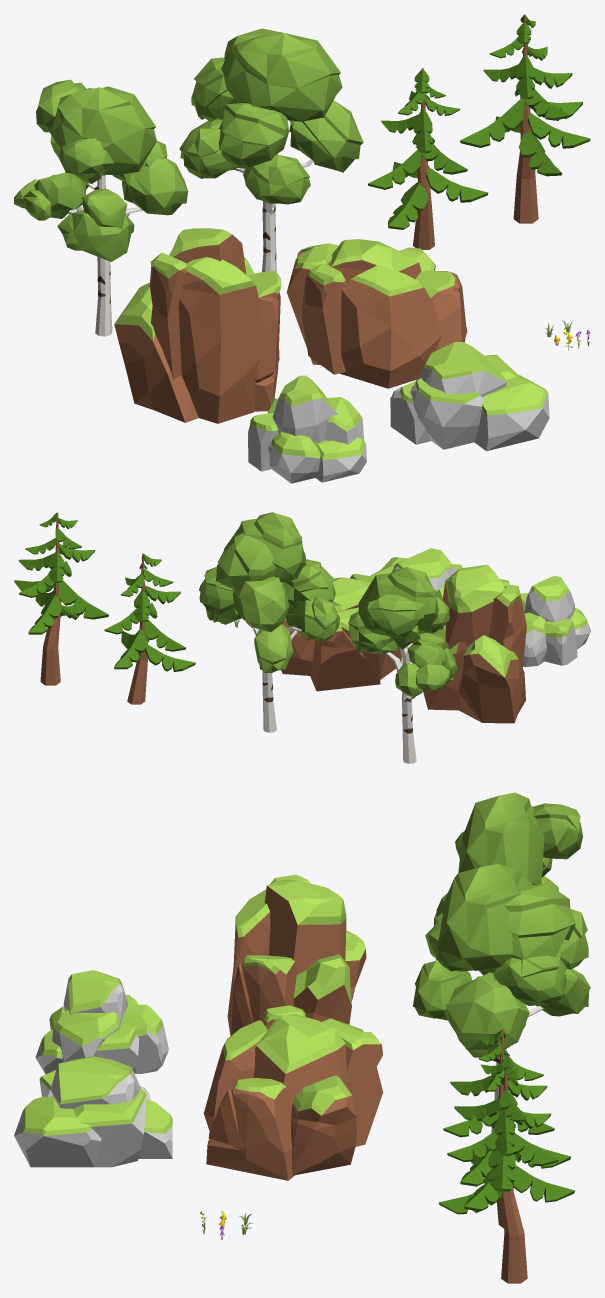
File: dm11.grassland.model.01.glb
3 renders of one model, top to bottom at view 1: azimuth 30°, elevation 25°; view 2: azimuth 150°, elevation 25°; view 3: azimuth 270°, elevation 25°, orthographic. The views are drawn at different scales.
Visible parts, largest first — view 1: PP_Rock_Pile_Forest_Moss_05.001_PP_Standard_Material_0, PP_Birch_Tree_06.001_PP_Standard_Material_0, PP_Rock_Pile_Forest_Moss_10.001_PP_Standard_Material_0, PP_Birch_Tree_05.001_PP_Standard_Material_0, PP_Rock_Moss_Grown_11.001_PP_Standard_Material_0, PP_Rock_Moss_Grown_09.001_PP_Standard_Material_0, PP_Tree_02.001_PP_Standard_Material_0, PP_Tree_10.001_PP_Standard_Material_0; view 2: PP_Birch_Tree_06.001_PP_Standard_Material_0, PP_Rock_Pile_Forest_Moss_05.001_PP_Standard_Material_0, PP_Birch_Tree_05.001_PP_Standard_Material_0, PP_Rock_Pile_Forest_Moss_10.001_PP_Standard_Material_0, PP_Tree_02.001_PP_Standard_Material_0, PP_Tree_10.001_PP_Standard_Material_0, PP_Rock_Moss_Grown_09.001_PP_Standard_Material_0, PP_Rock_Moss_Grown_11.001_PP_Standard_Material_0; view 3: PP_Rock_Pile_Forest_Moss_10.001_PP_Standard_Material_0, PP_Birch_Tree_06.001_PP_Standard_Material_0, PP_Rock_Pile_Forest_Moss_05.001_PP_Standard_Material_0, PP_Rock_Moss_Grown_11.001_PP_Standard_Material_0, PP_Tree_02.001_PP_Standard_Material_0, PP_Rock_Moss_Grown_09.001_PP_Standard_Material_0, PP_Birch_Tree_05.001_PP_Standard_Material_0, PP_Tree_10.001_PP_Standard_Material_0.
Boxes of the visible parts, box(x1,y1,x2,y2) form: PP_Rock_Pile_Forest_Moss_05.001_PP_Standard_Material_0: box(114, 228, 281, 423); PP_Birch_Tree_06.001_PP_Standard_Material_0: box(179, 28, 363, 272); PP_Rock_Pile_Forest_Moss_10.001_PP_Standard_Material_0: box(286, 239, 467, 388); PP_Birch_Tree_05.001_PP_Standard_Material_0: box(14, 79, 188, 336); PP_Rock_Moss_Grown_11.001_PP_Standard_Material_0: box(390, 342, 549, 451); PP_Rock_Moss_Grown_09.001_PP_Standard_Material_0: box(248, 375, 366, 483); PP_Tree_02.001_PP_Standard_Material_0: box(460, 14, 590, 223); PP_Tree_10.001_PP_Standard_Material_0: box(368, 68, 488, 249); PP_Birch_Tree_06.001_PP_Standard_Material_0: box(199, 512, 339, 732); PP_Rock_Pile_Forest_Moss_05.001_PP_Standard_Material_0: box(423, 564, 526, 723); PP_Birch_Tree_05.001_PP_Standard_Material_0: box(348, 567, 457, 763); PP_Rock_Pile_Forest_Moss_10.001_PP_Standard_Material_0: box(281, 573, 401, 691); PP_Tree_02.001_PP_Standard_Material_0: box(14, 512, 108, 685); PP_Tree_10.001_PP_Standard_Material_0: box(104, 553, 195, 704); PP_Rock_Moss_Grown_09.001_PP_Standard_Material_0: box(520, 575, 590, 667); PP_Rock_Moss_Grown_11.001_PP_Standard_Material_0: box(370, 548, 462, 591); PP_Rock_Pile_Forest_Moss_10.001_PP_Standard_Material_0: box(203, 1005, 383, 1180); PP_Birch_Tree_06.001_PP_Standard_Material_0: box(413, 864, 590, 1133); PP_Rock_Pile_Forest_Moss_05.001_PP_Standard_Material_0: box(227, 874, 366, 1035); PP_Rock_Moss_Grown_11.001_PP_Standard_Material_0: box(14, 1056, 172, 1167); PP_Tree_02.001_PP_Standard_Material_0: box(438, 1055, 574, 1283); PP_Rock_Moss_Grown_09.001_PP_Standard_Material_0: box(35, 970, 168, 1074); PP_Birch_Tree_05.001_PP_Standard_Material_0: box(434, 792, 582, 925); PP_Tree_10.001_PP_Standard_Material_0: box(443, 1029, 570, 1228).
Size of the model in its own units: 19.6 by 8.86 by 16.72.
1 material, 1 textured.
